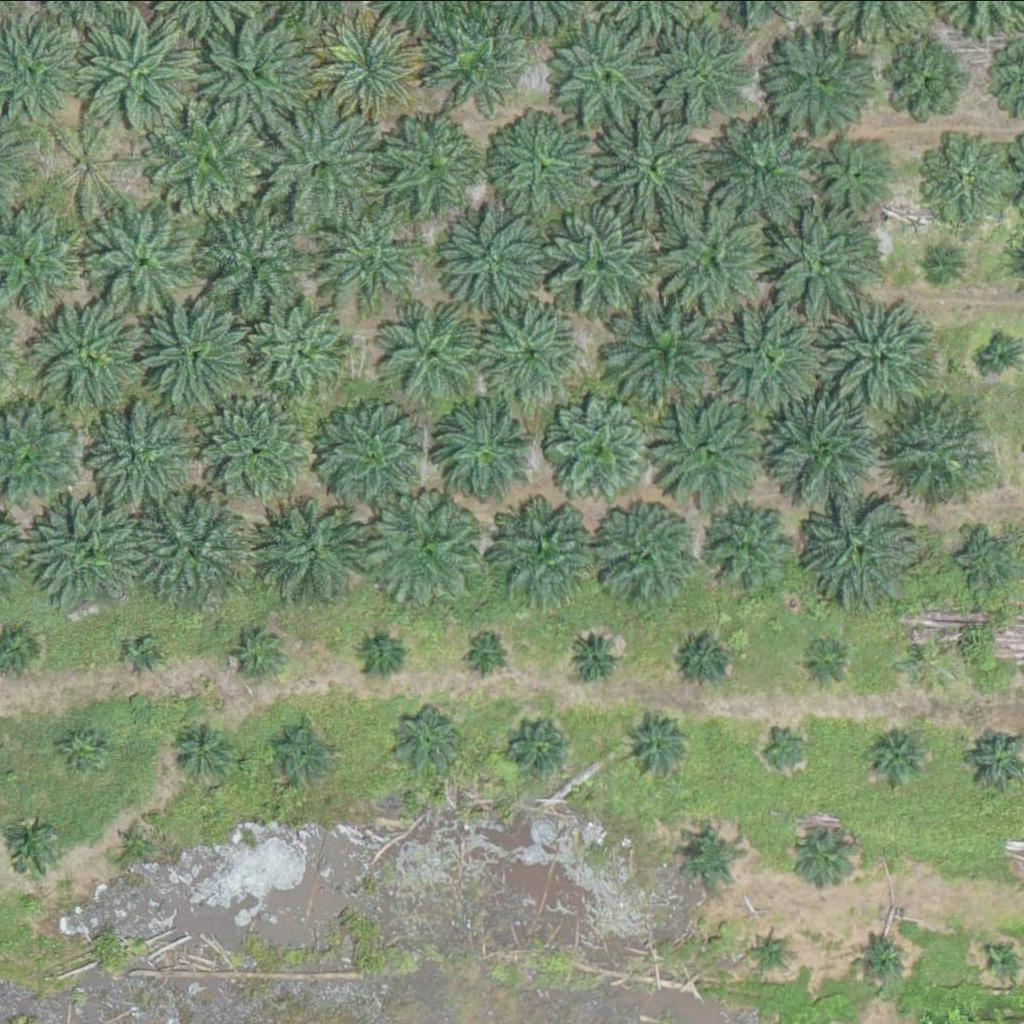Kelapa_Sawit: (604, 284, 730, 409), (798, 486, 924, 611), (712, 301, 826, 414), (657, 391, 771, 504), (542, 393, 656, 506), (374, 489, 488, 602), (769, 28, 882, 141), (597, 110, 710, 223), (698, 124, 811, 237), (821, 303, 934, 416), (763, 390, 876, 503), (878, 399, 991, 512), (33, 492, 146, 605), (135, 491, 248, 604), (250, 491, 363, 604), (198, 208, 311, 321), (90, 200, 203, 313), (151, 104, 264, 217), (316, 10, 429, 123), (549, 13, 662, 126), (269, 108, 382, 221), (374, 112, 487, 225), (319, 399, 432, 512), (758, 211, 872, 323), (493, 497, 607, 609), (656, 200, 769, 312), (29, 293, 142, 405), (136, 297, 249, 409), (200, 18, 313, 130), (78, 17, 191, 129), (314, 201, 427, 313), (546, 205, 659, 317), (38, 114, 139, 214), (202, 394, 303, 494), (88, 398, 189, 498), (256, 297, 357, 397), (494, 115, 595, 215), (439, 208, 540, 308), (388, 300, 489, 400), (591, 503, 692, 603), (481, 299, 581, 399), (435, 395, 535, 495), (919, 135, 1007, 223), (708, 505, 796, 593), (431, 18, 520, 105), (663, 31, 751, 118), (889, 40, 965, 115), (822, 142, 898, 217), (387, 700, 462, 775), (791, 814, 854, 877), (675, 825, 738, 888), (514, 716, 577, 779), (863, 727, 926, 790), (564, 626, 627, 689), (174, 717, 237, 779), (271, 718, 334, 780), (625, 716, 688, 778), (955, 528, 1018, 590), (676, 630, 739, 692), (231, 627, 282, 677), (793, 636, 844, 686), (890, 637, 941, 687), (755, 721, 806, 771), (355, 631, 406, 681), (3, 825, 53, 875), (59, 723, 109, 773), (853, 935, 903, 985), (463, 627, 513, 677), (923, 240, 961, 278), (751, 930, 789, 968), (117, 820, 155, 858), (126, 637, 164, 675), (985, 336, 1023, 373)
